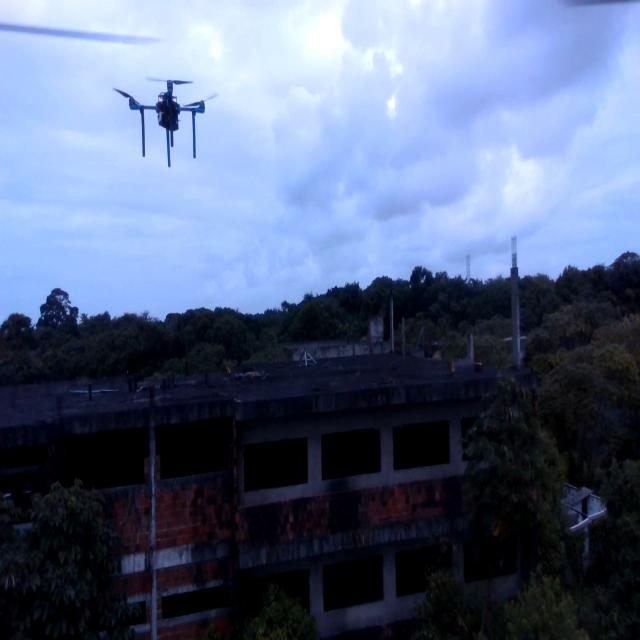-uav-: (100, 59, 222, 184)
